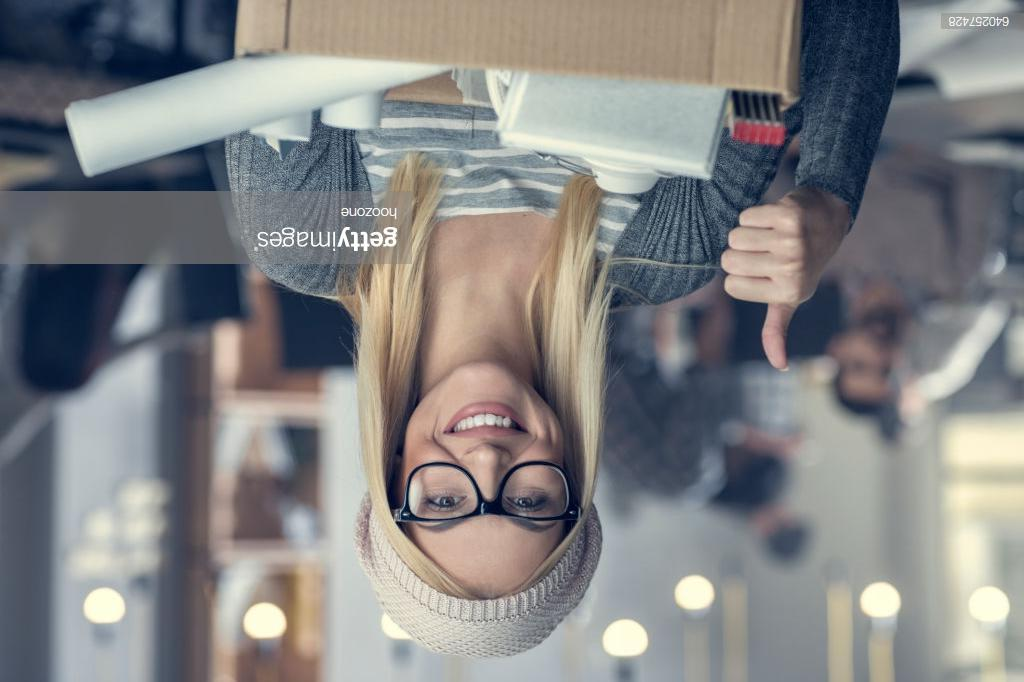thumbsdown: (720, 204, 813, 373)
